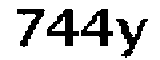4: (81, 5, 115, 53), (45, 5, 79, 51)
7: (13, 7, 46, 48)
y: (115, 14, 151, 59)
